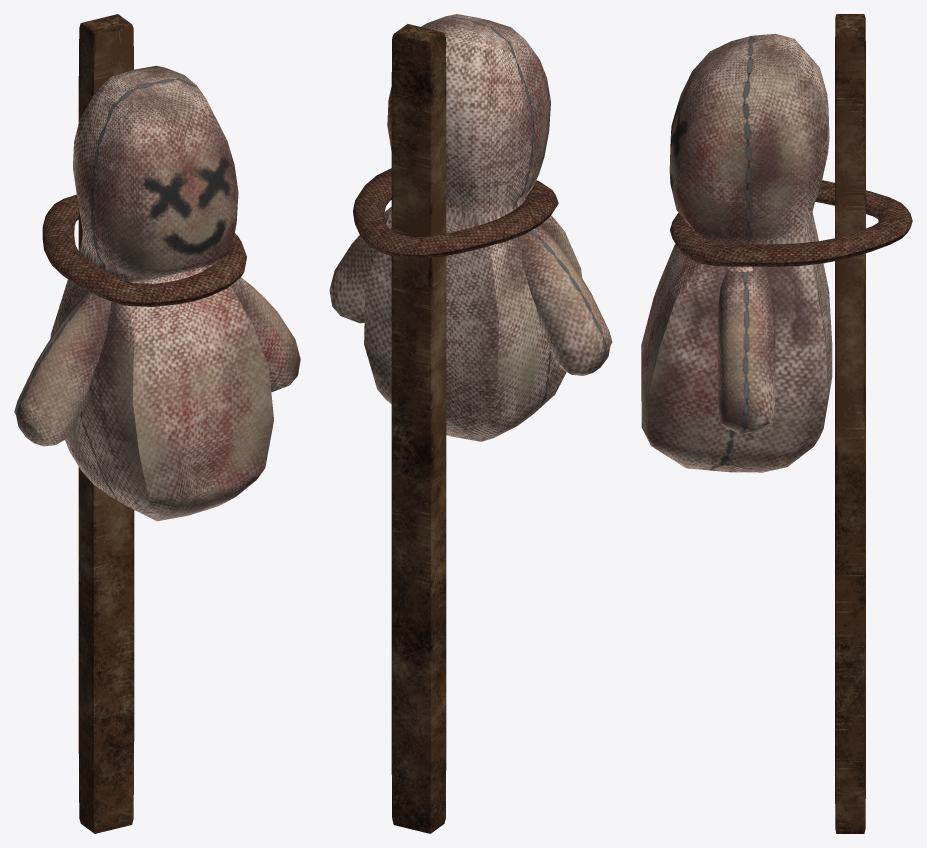
File: dummy.glb
3 renders of one model, left to right at view 1: azimuth 30°, elevation 25°; view 2: azimuth 150°, elevation 25°; view 3: azimuth 270°, elevation 25°, orthographic.
Visible parts, largest first — view 1: dummy1; view 2: dummy1; view 3: dummy1.
Part boxes in pixels (x1=…): dummy1: x1=14, y1=14, x2=300, y2=833; dummy1: x1=329, y1=14, x2=612, y2=833; dummy1: x1=641, y1=14, x2=912, y2=833.
Size of the model in its own units: 0.1432 by 0.3964 by 0.1217.
1 material, 1 textured.
